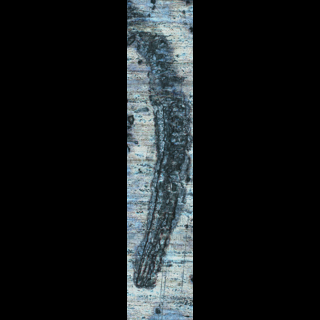d: (129, 6, 193, 292)
